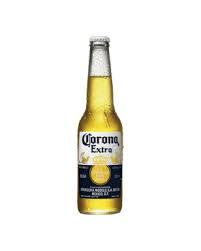Glass bottle: (68, 31, 132, 218)
